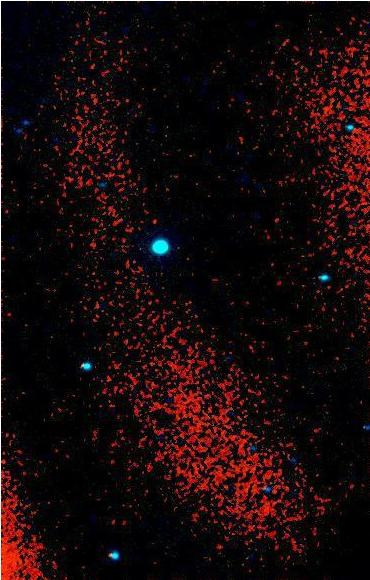star: (140, 205, 170, 235)
